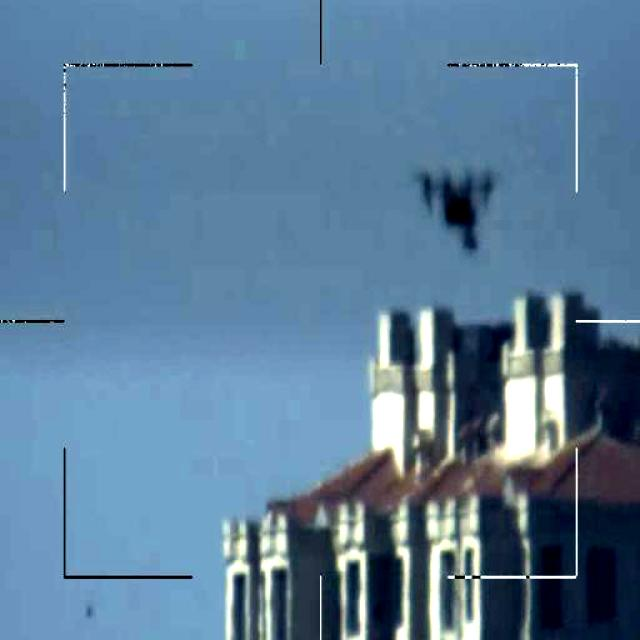bird: (410, 159, 502, 256)
